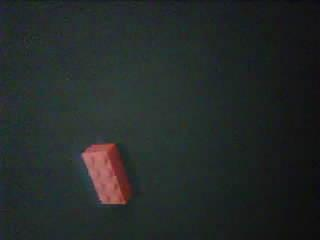lego: (80, 143, 131, 207)
